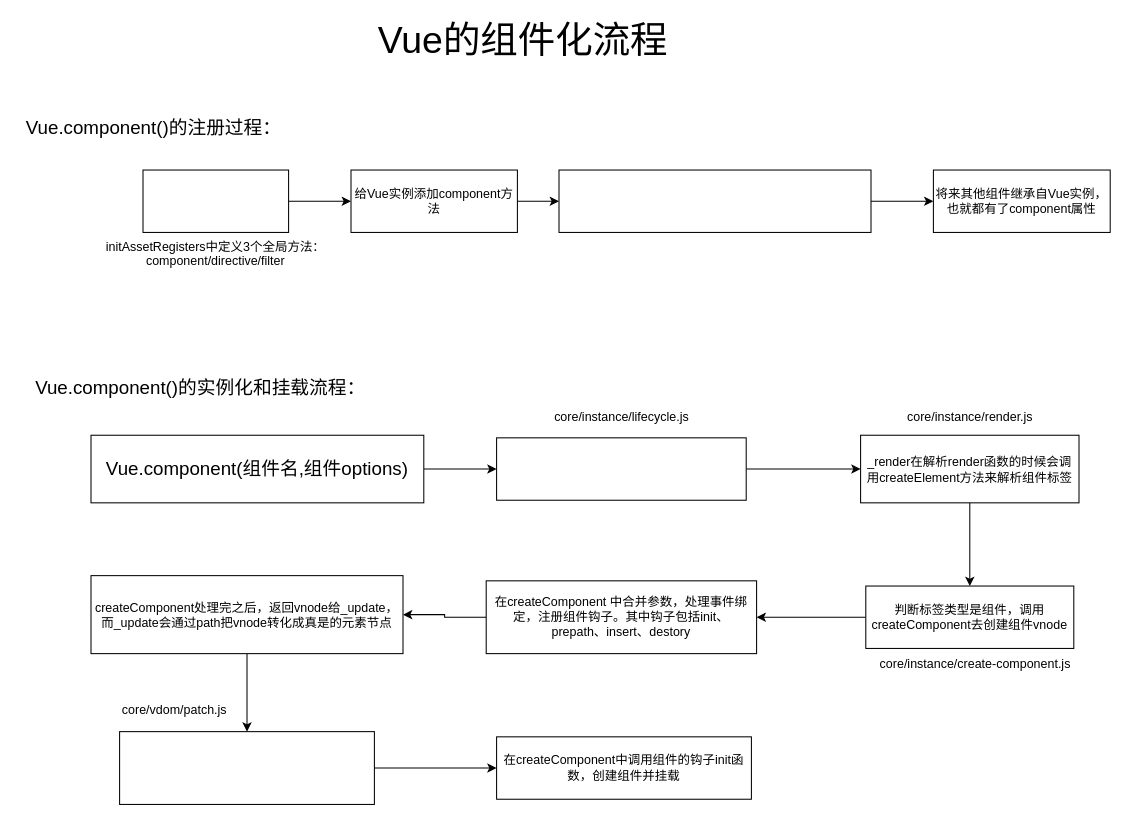
This 1128x823 diagram has some shape labels left out. The shapes that lost their labels are listed below. From the top down, each one's centre as x and y in pixels, then its label:
At [215,200]: "initGlobalAPI的时候调用initAssetRegisters".
At [714,200]: "component方法接受Id和definition并通过extend挂载到Vue根实例中，返回组件的构造函数".
At [621,468]: "组件标签会被转换成render函数中的一个标签，Watcher中触发_update的时候会先调用_render获得vdom".
At [246,767]: "patch会把vnode转成真实的元素，在createElm中调用createComponent创建组件".
